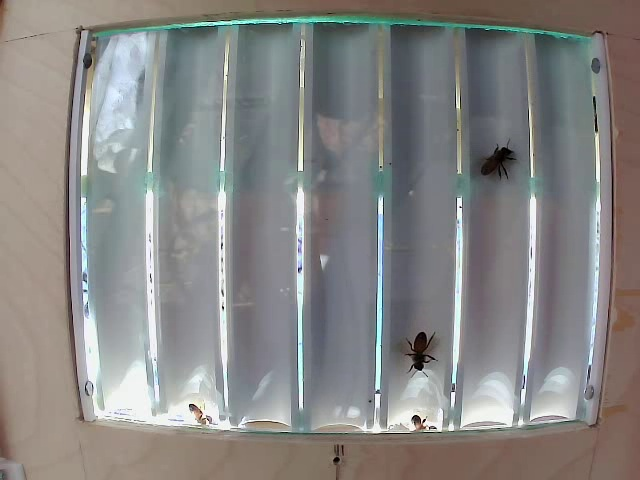bee: (391, 328, 448, 374), (473, 125, 508, 188)
